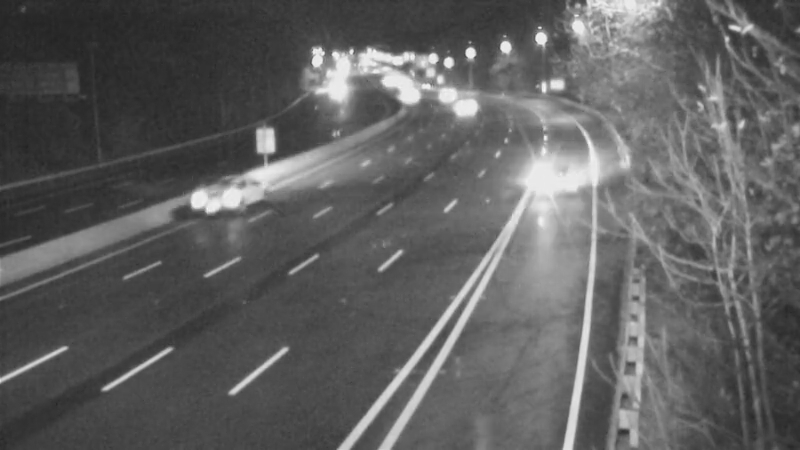vehicle: (522, 132, 602, 212), (185, 157, 265, 237), (419, 66, 469, 116), (381, 75, 431, 125), (434, 83, 484, 133)
